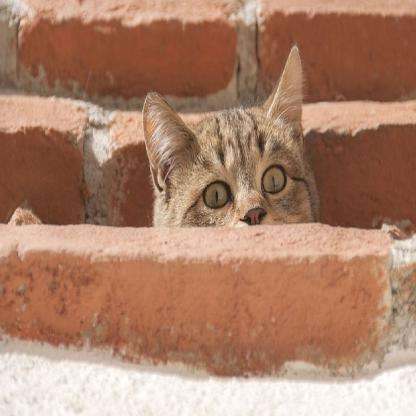cat: (142, 44, 320, 228)
